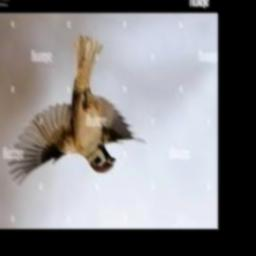Sparrow: (9, 35, 146, 186)
